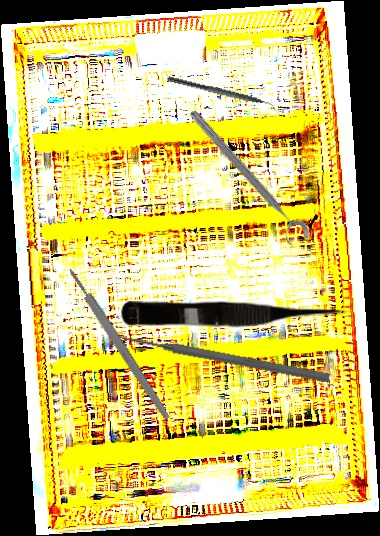Chopper: (165, 76, 282, 115)
Fixation Ring: (178, 105, 314, 253)
Micro Scissor: (120, 301, 352, 331)
Pusher: (113, 329, 331, 385)
Scalpel Handle: (66, 266, 172, 422)
